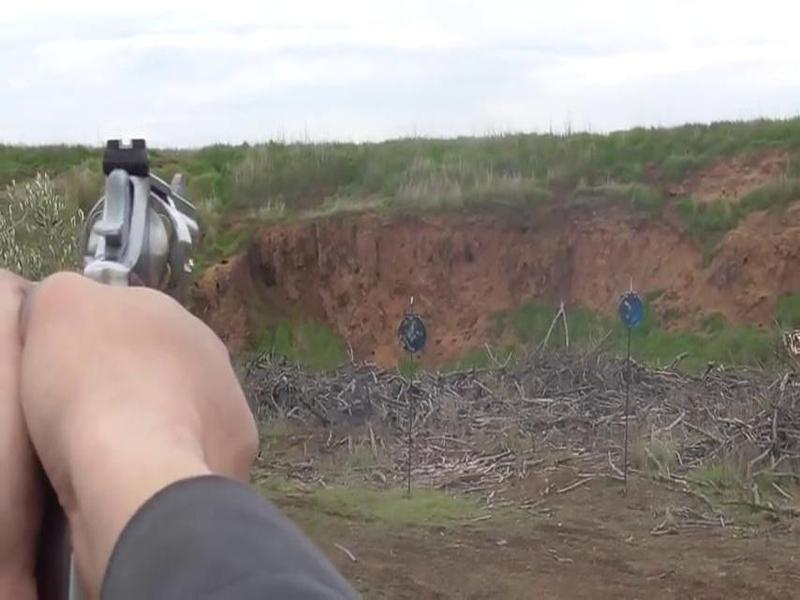Revolver: (83, 133, 209, 315)
